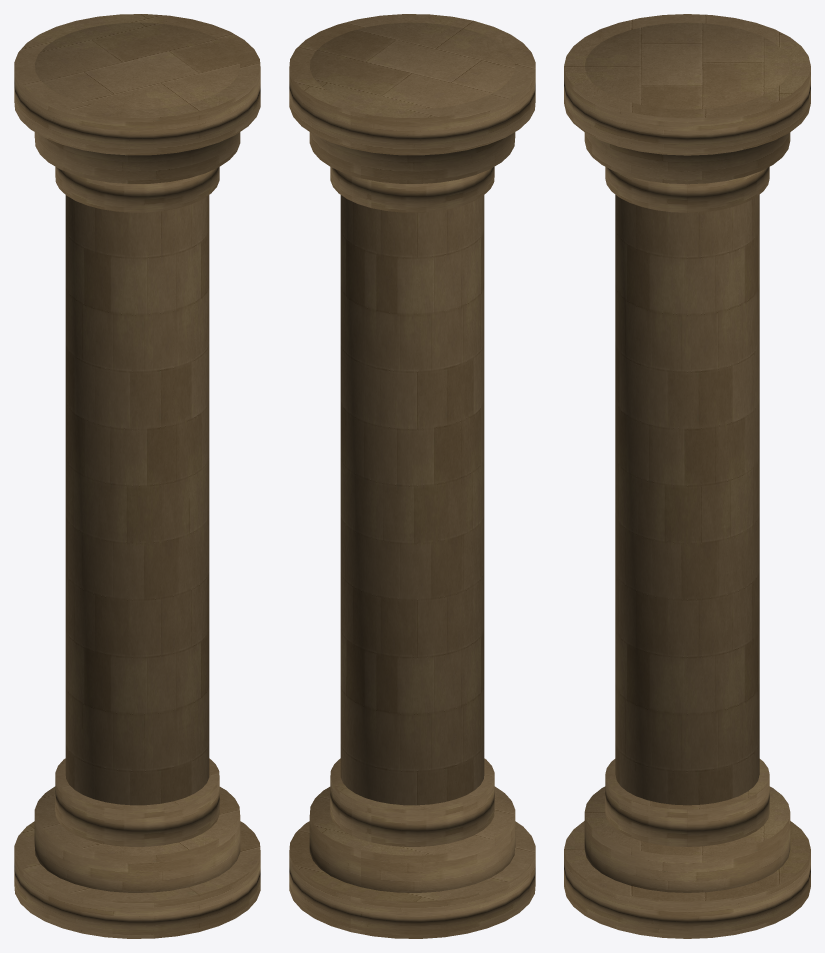
Rendered from temple_tall.gltf.
3 views of the same model, side by side, from view 1: azimuth 30°, elevation 25°; view 2: azimuth 150°, elevation 25°; view 3: azimuth 270°, elevation 25° (orthographic).
Parts seen in each view (by area): view 1: Cylinder, Cylinder.003, Cylinder.005, Cylinder.006, Cylinder.001, Cylinder.002, Cylinder.004; view 2: Cylinder, Cylinder.003, Cylinder.005, Cylinder.006, Cylinder.001, Cylinder.002, Cylinder.004; view 3: Cylinder, Cylinder.003, Cylinder.005, Cylinder.006, Cylinder.001, Cylinder.002, Cylinder.004.
Part boxes in pixels (box(x1,y1,x2,y2)): Cylinder: box(65, 195, 209, 805); Cylinder.003: box(34, 22, 240, 183); Cylinder.005: box(14, 14, 260, 155); Cylinder.006: box(14, 821, 260, 938); Cylinder.001: box(34, 786, 240, 892); Cylinder.002: box(55, 758, 219, 846); Cylinder.004: box(55, 167, 219, 212); Cylinder: box(340, 195, 484, 805); Cylinder.003: box(309, 22, 515, 183); Cylinder.005: box(289, 14, 535, 155); Cylinder.006: box(289, 821, 535, 938); Cylinder.001: box(309, 786, 515, 892); Cylinder.002: box(330, 758, 494, 846); Cylinder.004: box(330, 167, 494, 212); Cylinder: box(615, 195, 759, 805); Cylinder.003: box(584, 22, 790, 184); Cylinder.005: box(564, 14, 810, 155); Cylinder.006: box(564, 821, 810, 938); Cylinder.001: box(584, 786, 790, 892); Cylinder.002: box(605, 759, 769, 846); Cylinder.004: box(605, 167, 769, 212).
Size of the model in its own units: 2.4 by 8.8 by 2.4.
